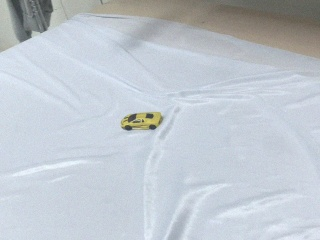toy_car: (121, 112, 163, 130)
